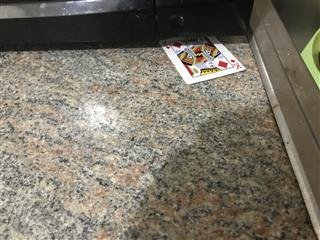KingOfDiamonds: (160, 37, 246, 84)
